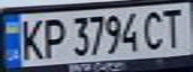3: (66, 14, 90, 57)
4: (121, 9, 145, 54)
7: (87, 12, 106, 56)
9: (103, 11, 124, 55)
C: (139, 7, 169, 52)
K: (15, 16, 45, 62)
P: (39, 16, 66, 60)
T: (157, 4, 190, 50)
